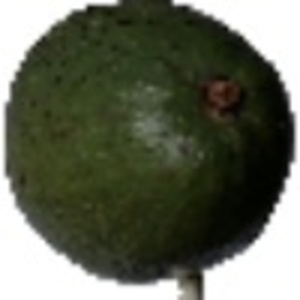abacate: (5, 2, 291, 278)
